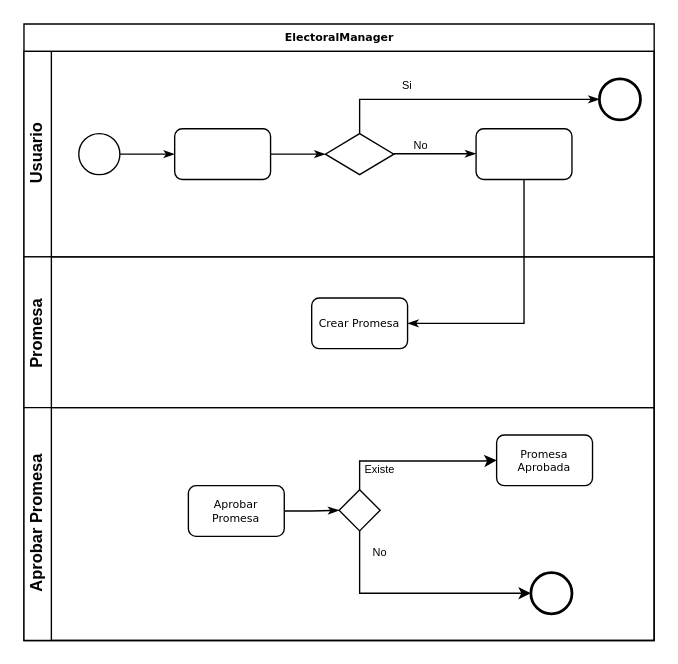
Some shapes in this 678 by 664 pixel diagram are drawn without their labels. The shapes that lost their labels are listed below. From the top down, each one's centre as x and y in pixels, then its label:
At (x=222, y=153): "Crear usuario".
At (x=359, y=153): "¿Existe?".
At (x=523, y=153): "Crea usuario".
